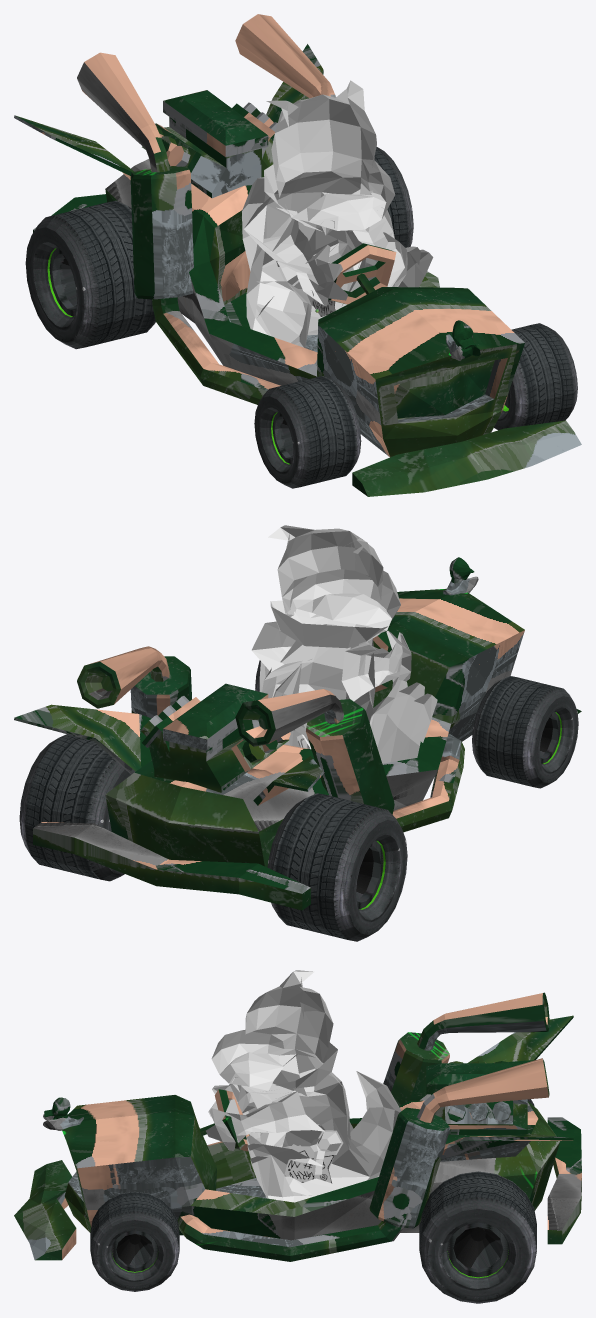
File: kart.glb
3 renders of one model, top to bottom at view 1: azimuth 30°, elevation 25°; view 2: azimuth 150°, elevation 25°; view 3: azimuth 270°, elevation 25°, orthographic. The views are drawn at different scales.
Visible parts, largest first — view 1: body (×3), wheel-rear-left, wheel-front-left, wheel-front-right, wheel-rear-right; view 2: body (×2), wheel-rear-left, wheel-front-left, wheel-rear-right; view 3: body (×4), wheel-rear-right, wheel-front-right.
Boxes of the visible parts, x1=… form: body (×3): x1=14, y1=14, x2=581, y2=496; wheel-rear-left: x1=25, y1=200, x2=155, y2=349; wheel-front-left: x1=254, y1=376, x2=361, y2=488; wheel-front-right: x1=494, y1=323, x2=577, y2=430; wheel-rear-right: x1=374, y1=147, x2=413, y2=247; body (×2): x1=14, y1=525, x2=581, y2=910; wheel-rear-left: x1=267, y1=793, x2=407, y2=941; wheel-front-left: x1=472, y1=676, x2=578, y2=788; wheel-rear-right: x1=19, y1=734, x2=130, y2=881; body (×4): x1=14, y1=970, x2=581, y2=1261; wheel-rear-right: x1=419, y1=1171, x2=536, y2=1303; wheel-front-right: x1=90, y1=1191, x2=179, y2=1291.
Bounding box in the file's own units: 0.8114 × 0.6921 × 1.41.
4 materials, 4 textured.
